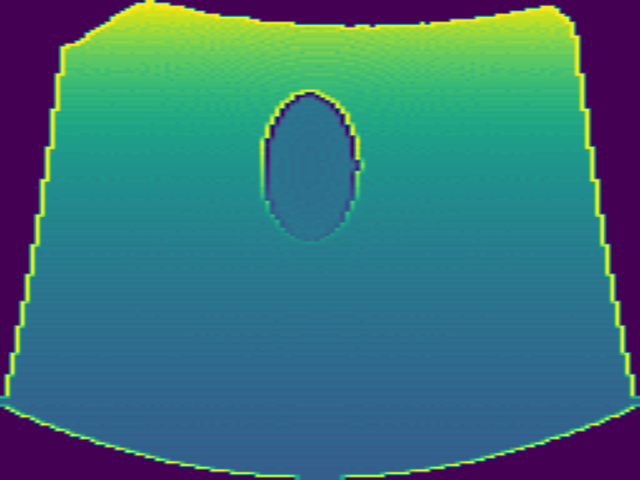sphere: (259, 89, 365, 240)
